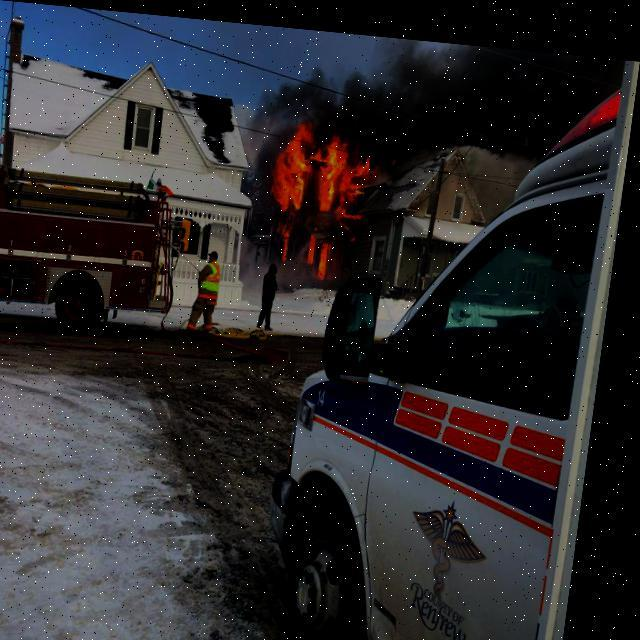Fire: (220, 110, 400, 271)
